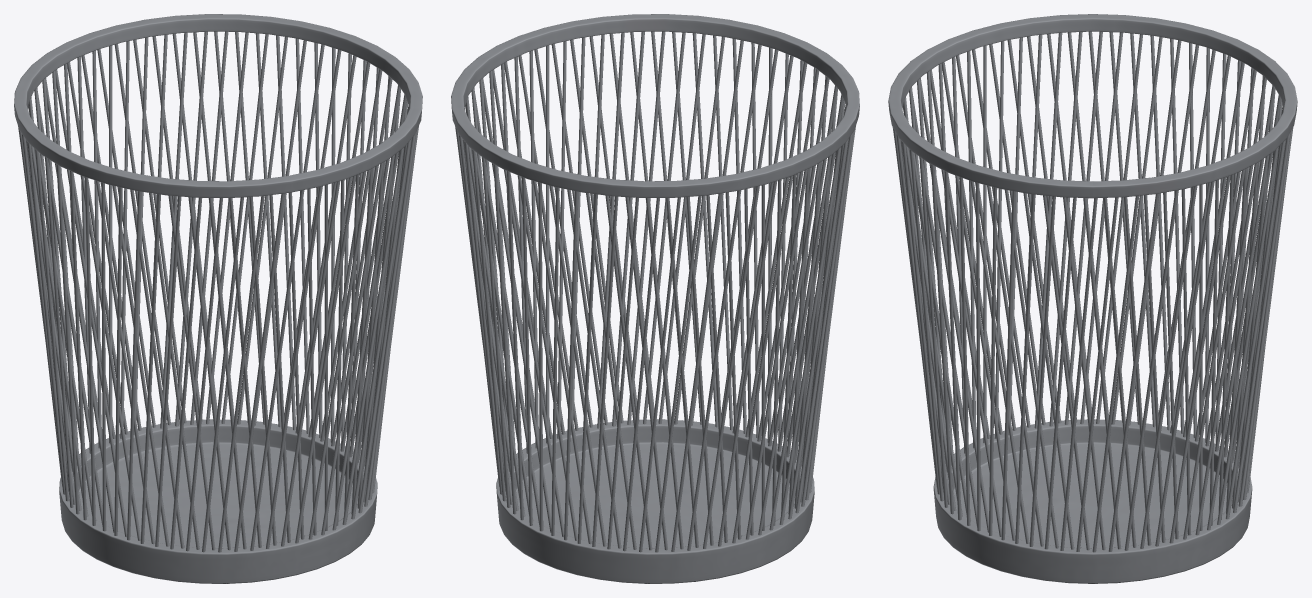
The model's file is st_wastebasket_wire.gltf.
3 renders of one model, left to right at view 1: azimuth 30°, elevation 25°; view 2: azimuth 150°, elevation 25°; view 3: azimuth 270°, elevation 25°, orthographic.
Visible parts, largest first — view 1: mesh_bin.001, mesh_bin; view 2: mesh_bin.001, mesh_bin; view 3: mesh_bin.001, mesh_bin.
Boxes of the visible parts, x1=… form: mesh_bin.001: x1=18, y1=31, x2=418, y2=552; mesh_bin: x1=14, y1=14, x2=422, y2=583; mesh_bin.001: x1=455, y1=31, x2=855, y2=552; mesh_bin: x1=451, y1=14, x2=859, y2=583; mesh_bin.001: x1=892, y1=31, x2=1293, y2=552; mesh_bin: x1=888, y1=14, x2=1297, y2=583.
Size of the model in its own units: 0.2716 by 0.3061 by 0.2716.
Materials: 1 (1 with a texture image).
